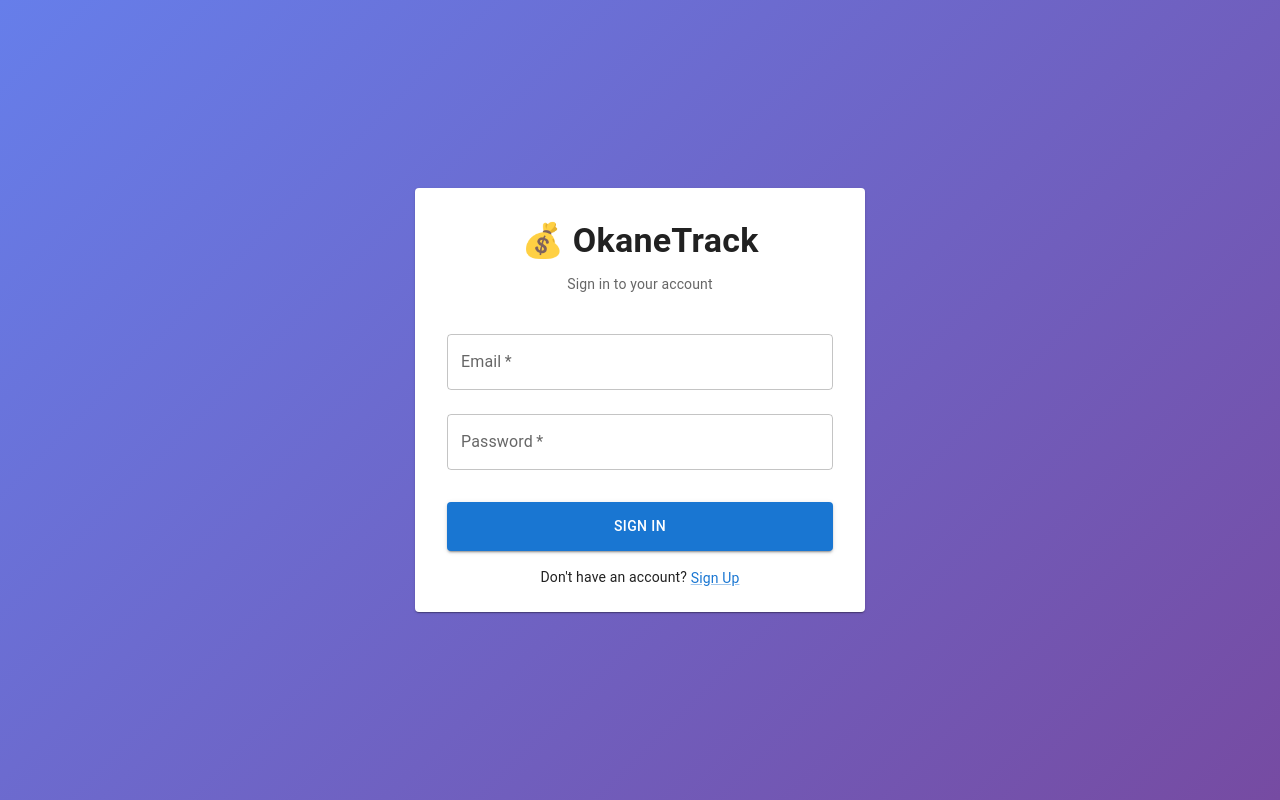
Test: Login › Rendering › should toggle back to login form
This screenshot has width=1280, height=800.
Switch to register
Click the button "Sign Up".
click(715, 578)  # box x1=691 y1=568 x2=740 y2=588
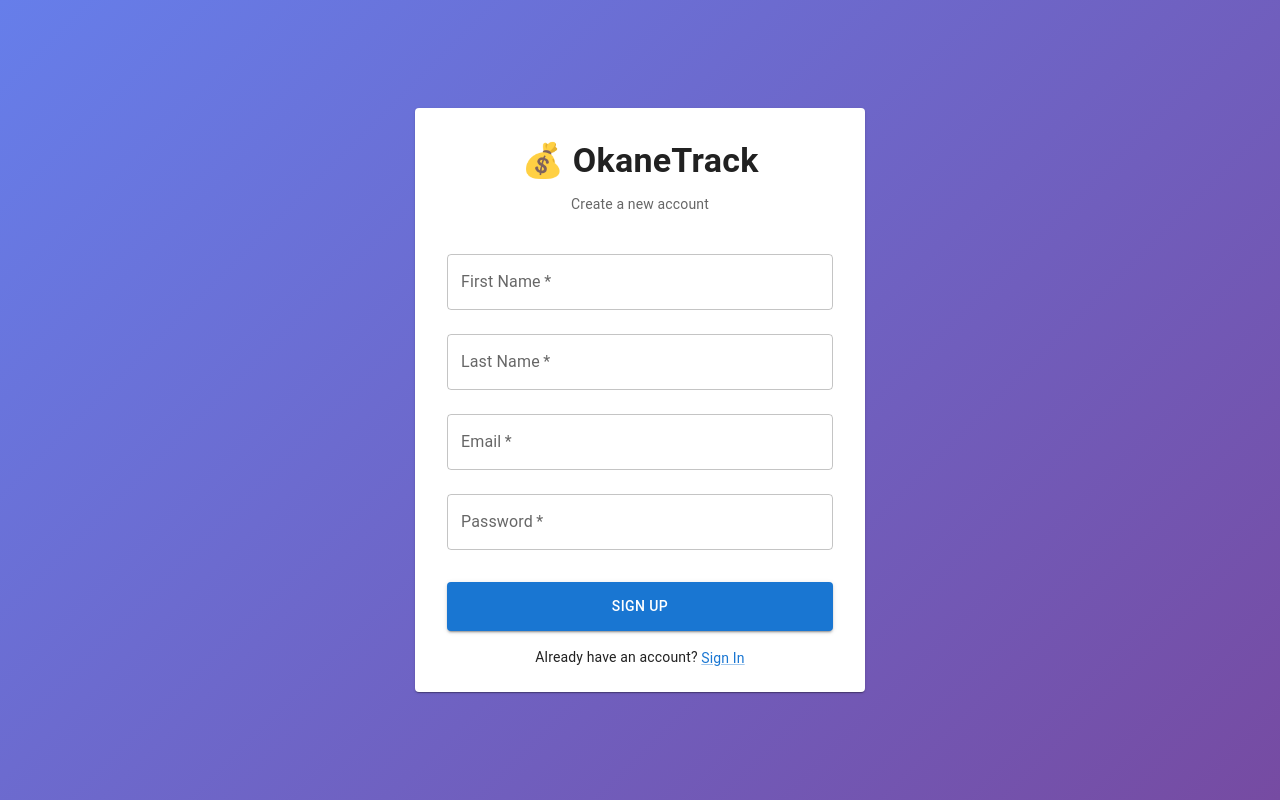
Switch back to login
Click the button "Sign In".
click(723, 658)  # box x1=701 y1=648 x2=745 y2=668
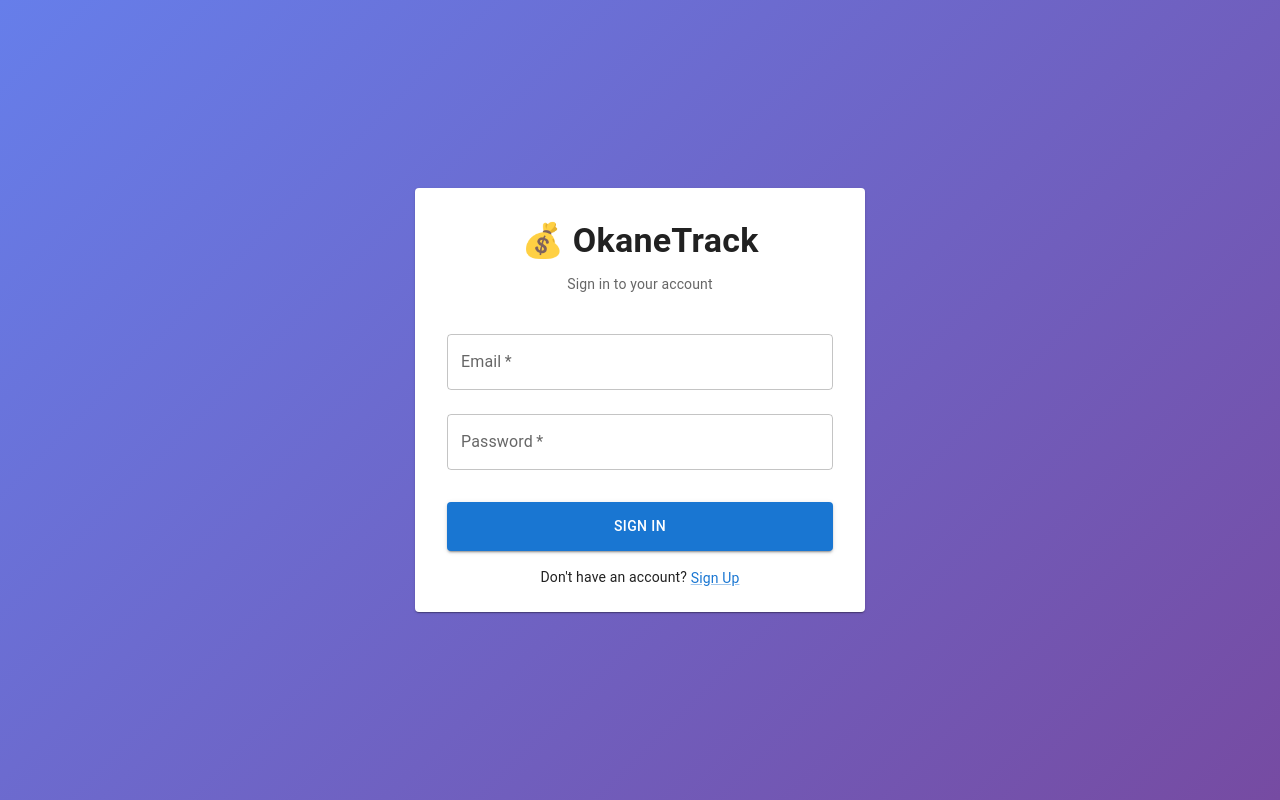
Check: the text "Sign in to your account" is shown, box x1=567 y1=276 x2=713 y2=292
Check: the label "First Name" is gone
Check: the label "Last Name" is gone
